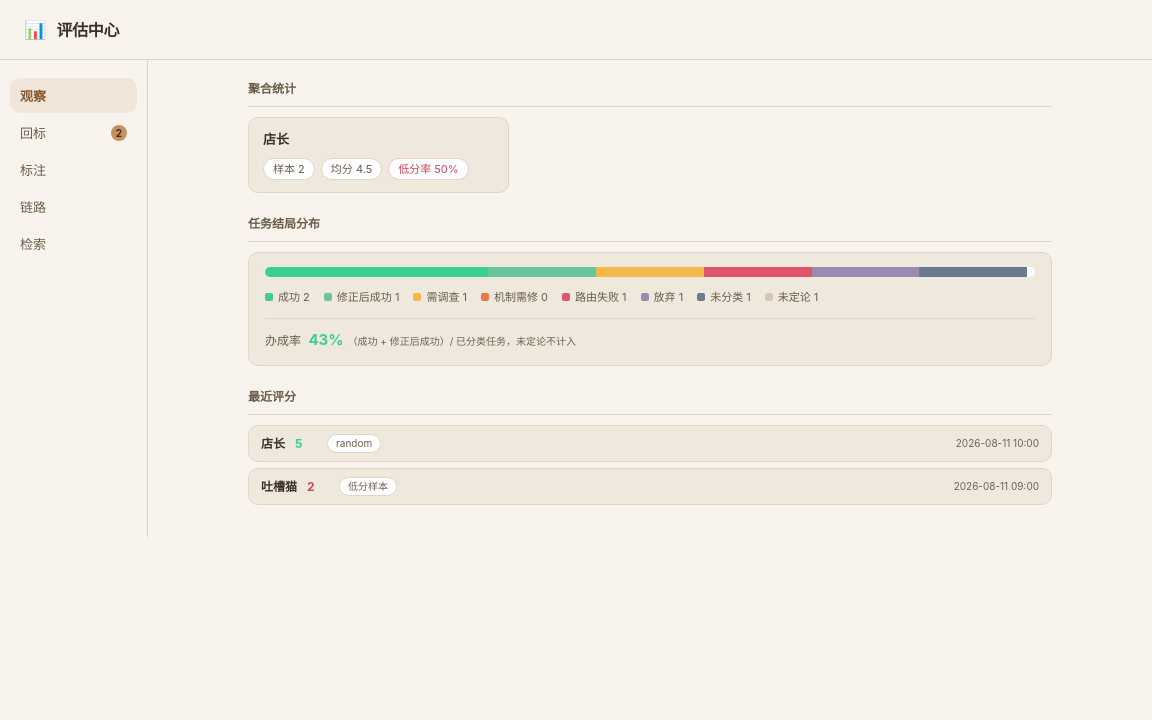
Test: EvaluationView 挂载测试（mock useApi） › 回标失败 → 样本保留 + 错误提示（不白屏）
Step 1. Click the button "回标 2" → click(74, 132), box x1=10 y1=115 x2=137 y2=150
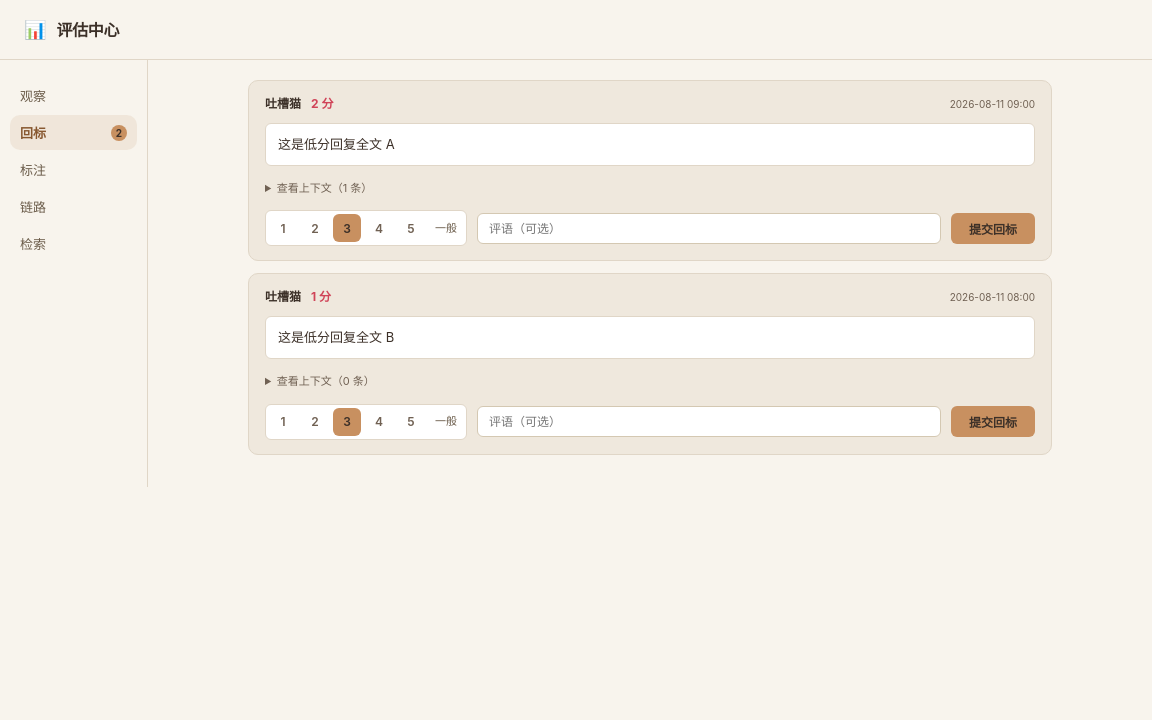
Step 2. Click the button with class "btn-submit" below "2026-08-11 09:00" → click(993, 228), box x1=951 y1=213 x2=1035 y2=244
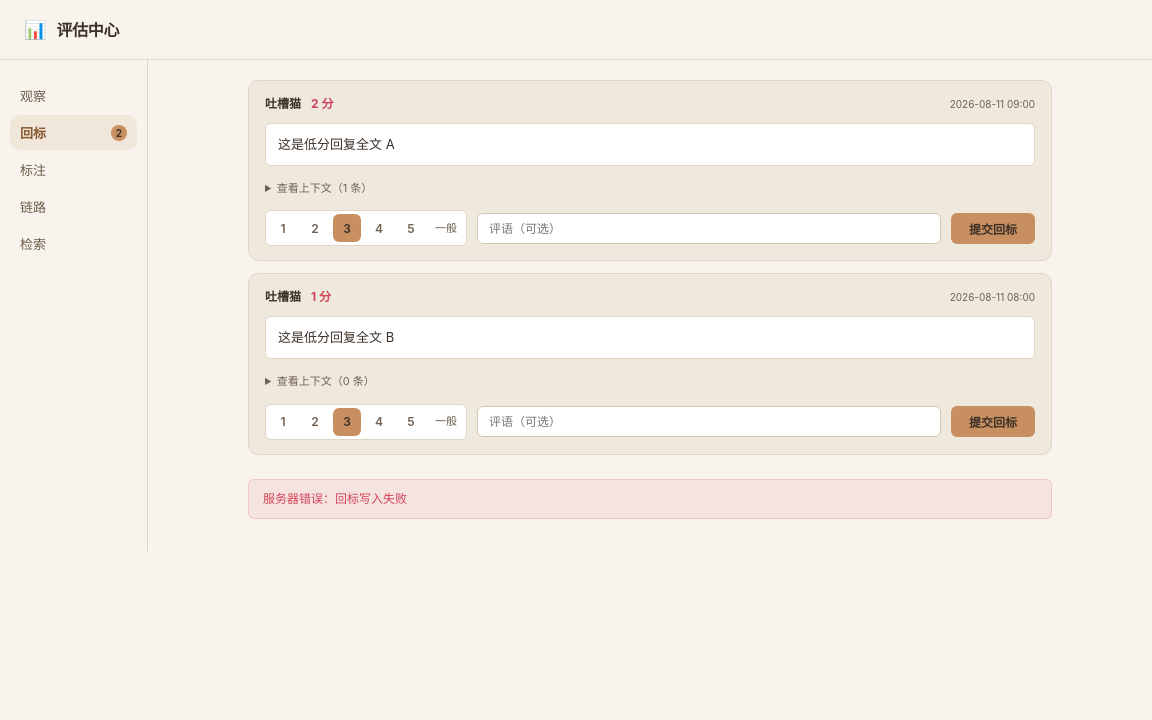
Expected: the text "这是低分回复全文 A" is shown, x1=265 y1=123 x2=1035 y2=166
Expected: the text "服务器错误" is shown, x1=263 y1=491 x2=407 y2=506
